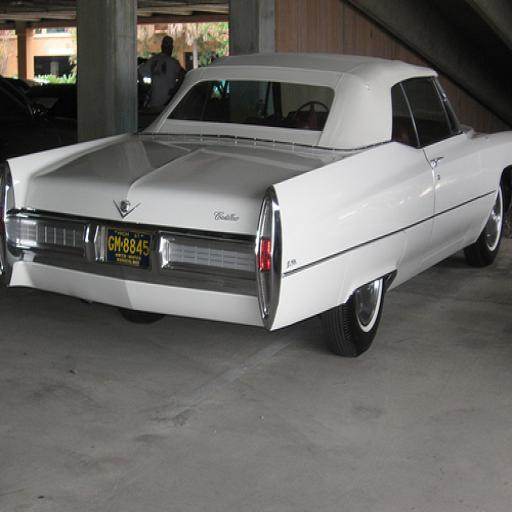car: (0, 49, 511, 358)
person: (136, 34, 186, 111)
